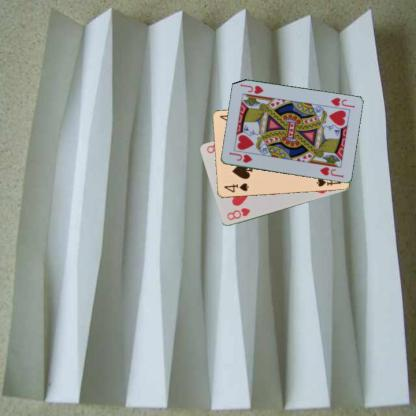4s: (221, 181, 250, 194)
8h: (224, 205, 252, 221)
Jh: (325, 94, 355, 112), (227, 150, 253, 164)
